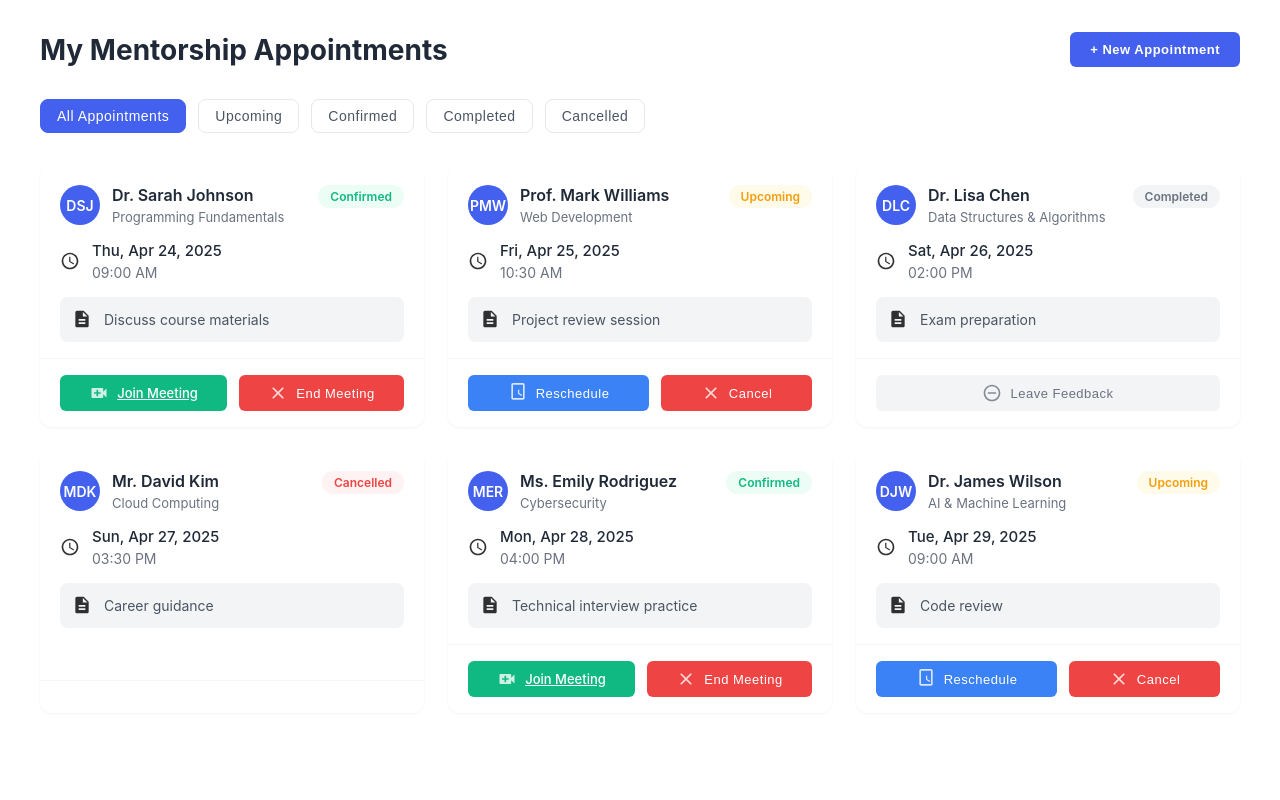
Test case: AppointmentManager Component › cancels appointment when cancel button is clicked
The width and height of the screenshot is (1280, 800).
What coordinates should you click on to do the following:
click the button with class "cancel-btn" below "Discuss course materials"
I would click on:
 (322, 393)
Its box is [239,375,404,411].
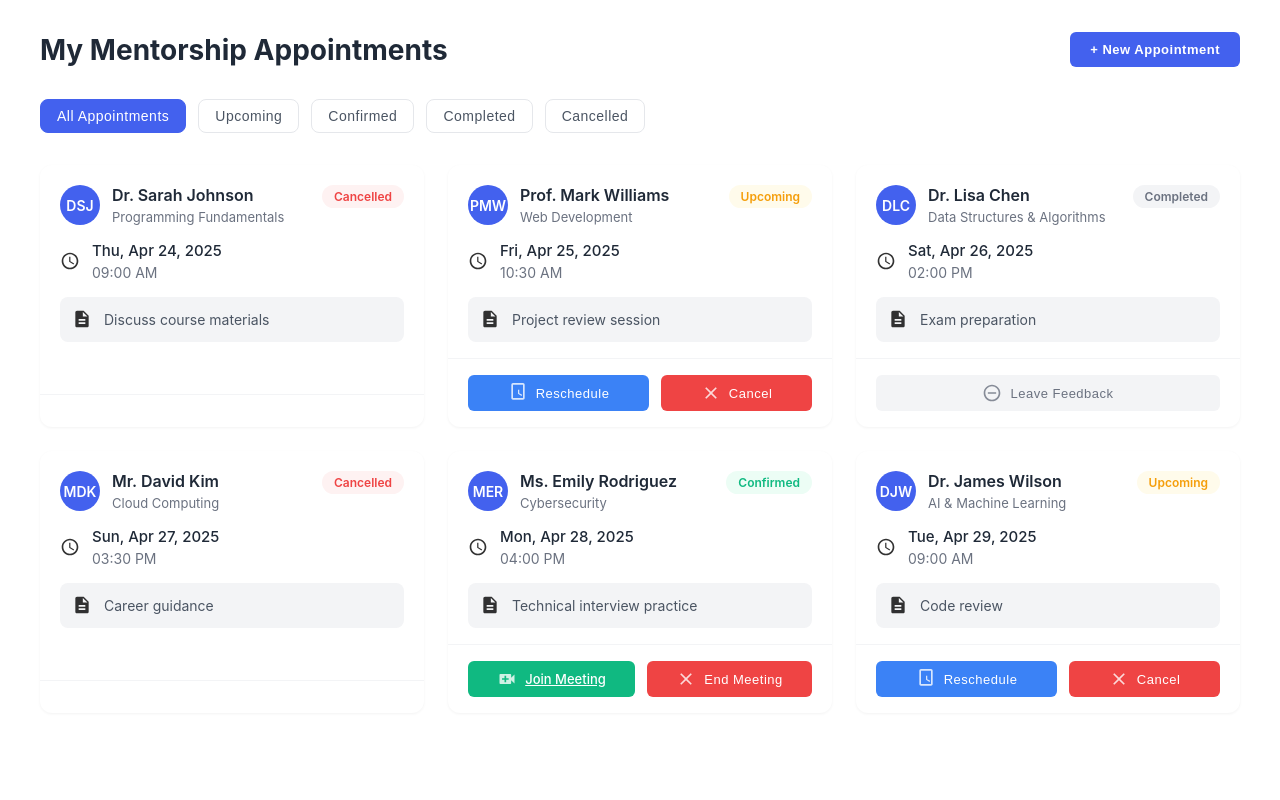
Now the text with class "cancelled" next to "Dr. Sarah Johnson" is shown, box [322,185,404,208]
